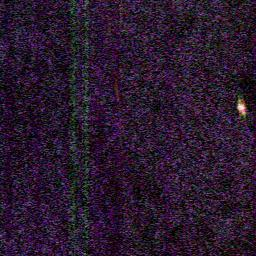Ship: (232, 95, 250, 118)
